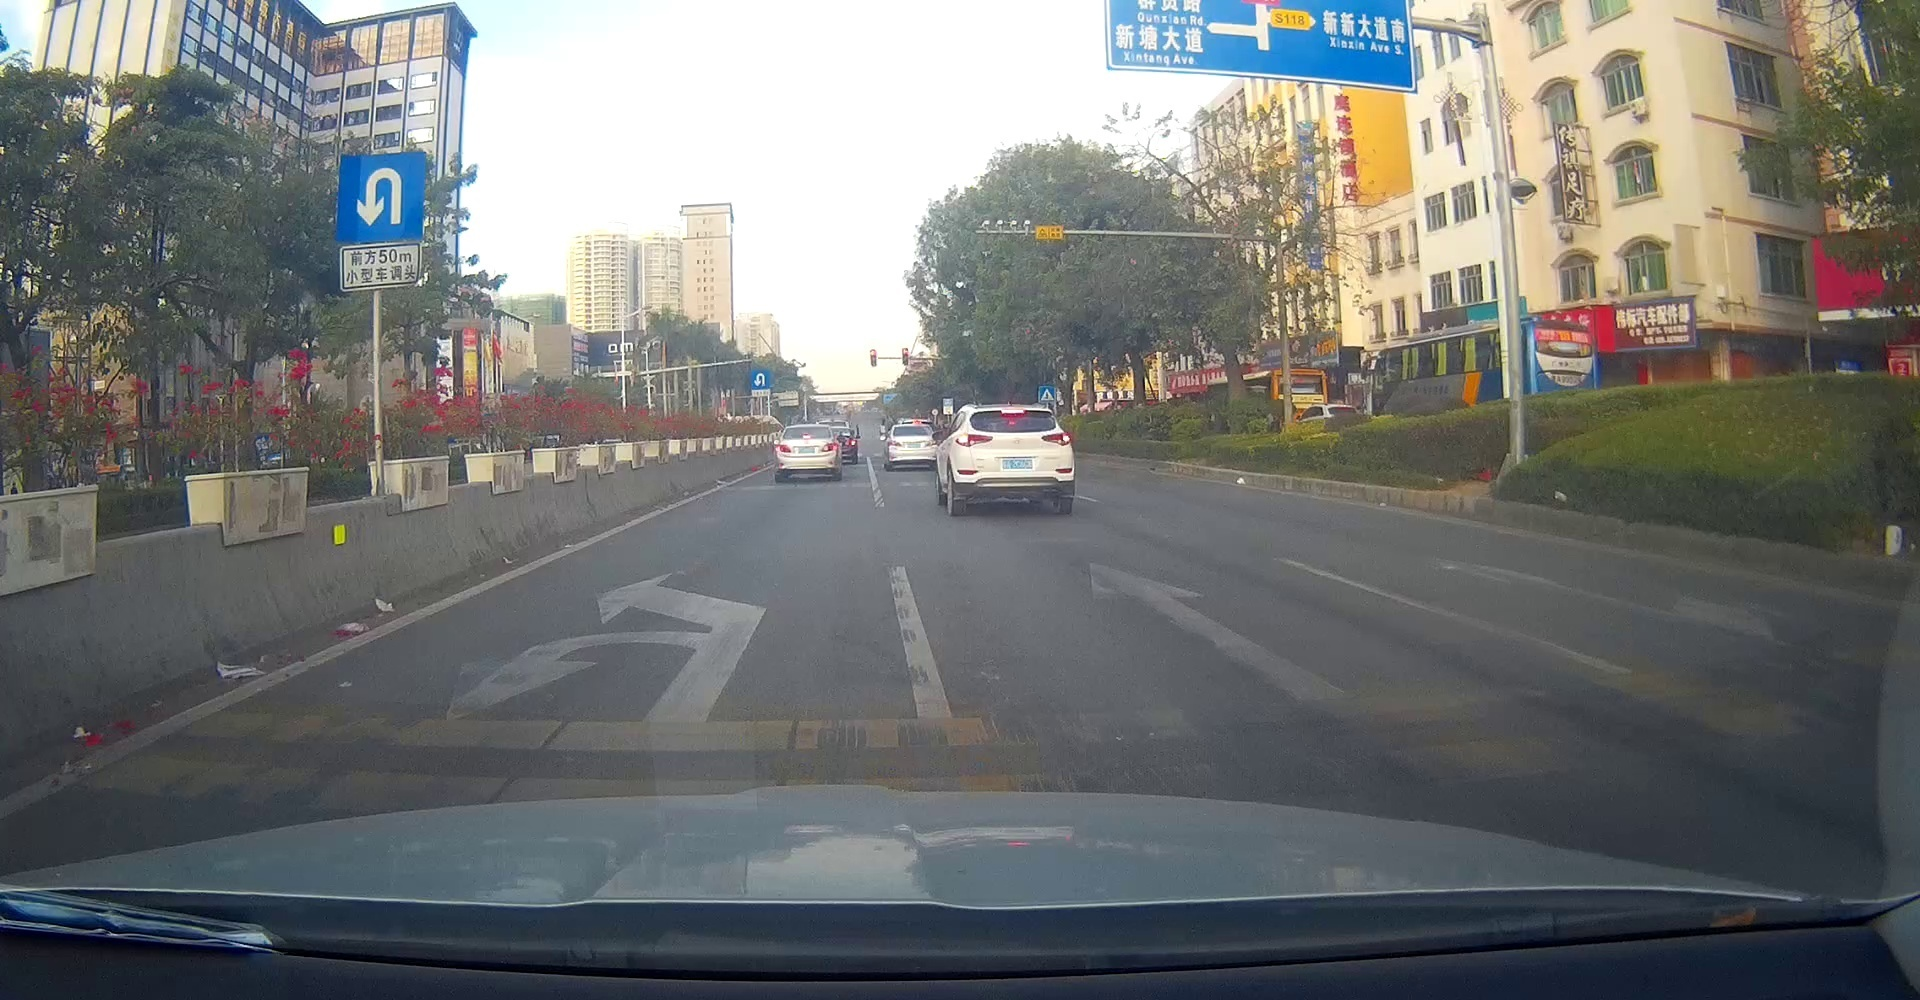L_light: (955, 433, 993, 447), (776, 444, 791, 453)
R_light: (1041, 431, 1070, 445), (822, 443, 837, 452)
T_light: (1001, 410, 1023, 414), (803, 435, 811, 439)
day-brake: (952, 404, 1074, 515), (775, 424, 838, 481)
